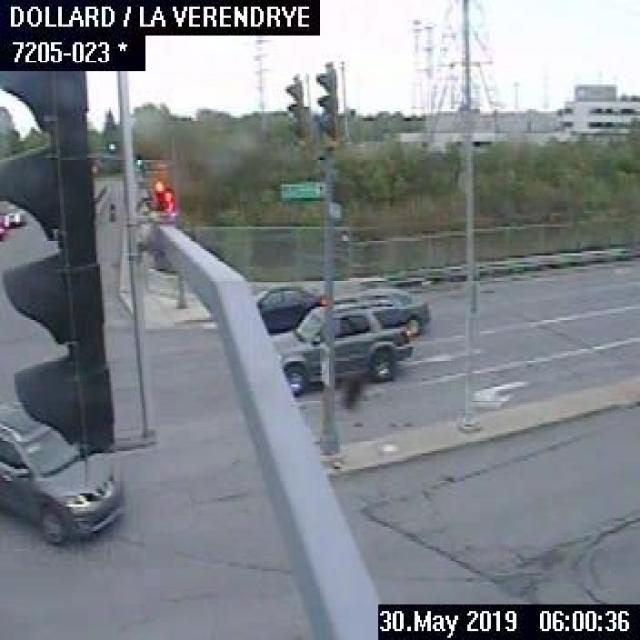pedestrian: (105, 194, 116, 222)
vehicle: (0, 402, 127, 546), (274, 302, 410, 396), (338, 287, 428, 336), (256, 283, 324, 333), (0, 204, 27, 226), (0, 222, 7, 240)
